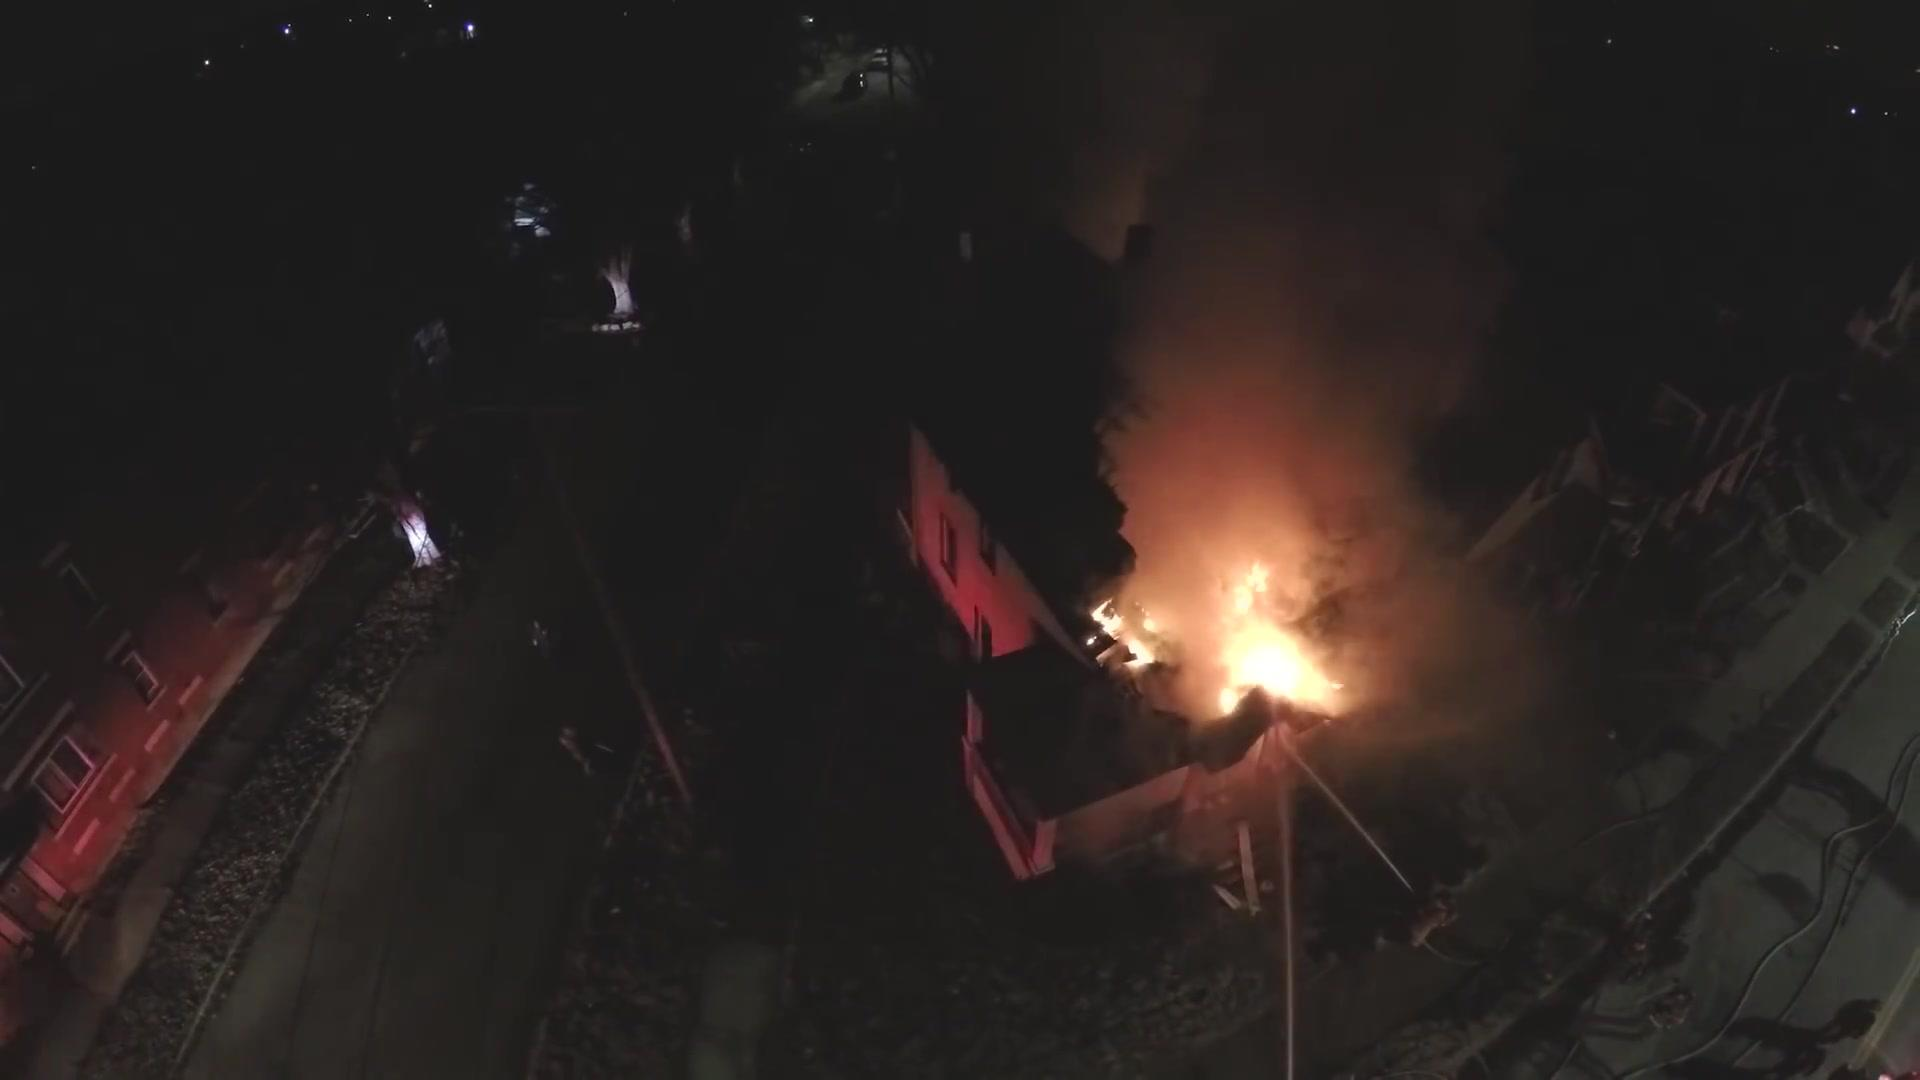fire: (1229, 631, 1327, 706)
smoke: (1127, 134, 1419, 553)
